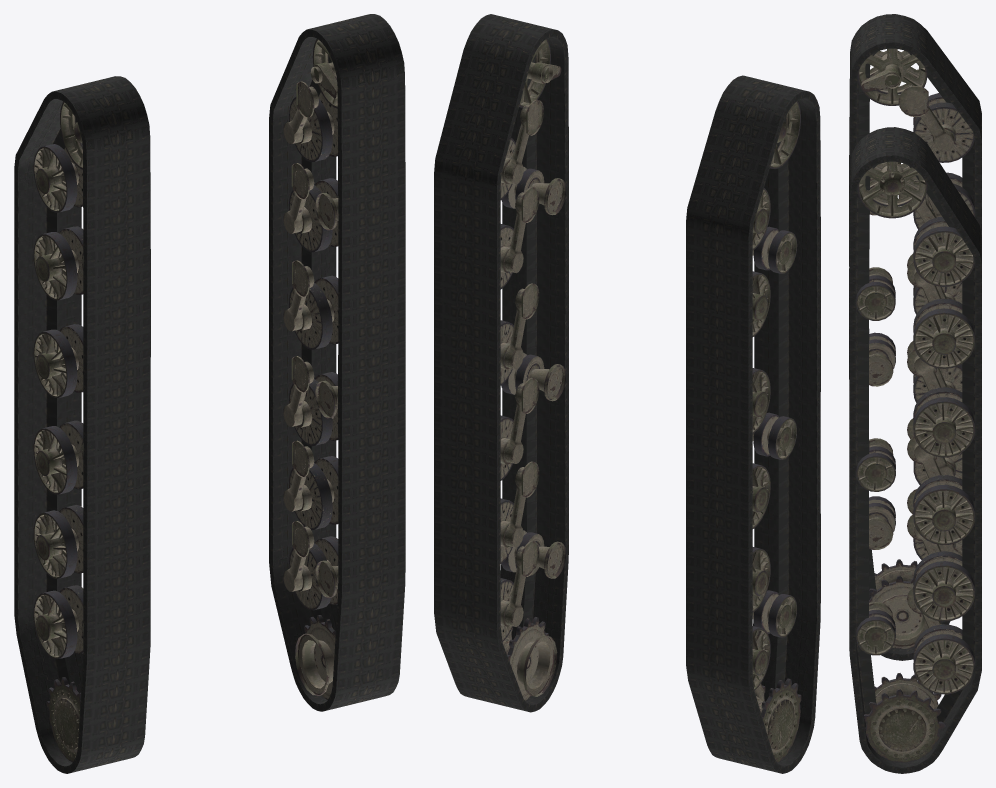
Rendered from Chassis.glb.
3 views of the same model, side by side, from view 1: azimuth 30°, elevation 25°; view 2: azimuth 150°, elevation 25°; view 3: azimuth 270°, elevation 25° (orthographic). The views are drawn at different scales.
Parts seen in each view (by area): view 1: set_0_group_0, set_1_group_0, set_3_group_0, set_2_group_0; view 2: set_0_group_0, set_1_group_0, set_3_group_0, set_2_group_0; view 3: set_3_group_0, set_1_group_0, set_2_group_0, set_0_group_0.
Boxes of the visible parts, bbox=[...] form: set_0_group_0: bbox=[14, 76, 150, 773]; set_1_group_0: bbox=[269, 14, 405, 711]; set_3_group_0: bbox=[283, 39, 338, 699]; set_2_group_0: bbox=[33, 101, 83, 762]; set_0_group_0: bbox=[686, 75, 820, 773]; set_1_group_0: bbox=[434, 14, 568, 712]; set_3_group_0: bbox=[500, 39, 566, 700]; set_2_group_0: bbox=[752, 101, 801, 762]; set_3_group_0: bbox=[856, 161, 974, 762]; set_1_group_0: bbox=[849, 127, 981, 773]; set_2_group_0: bbox=[857, 48, 974, 648]; set_0_group_0: bbox=[849, 14, 981, 660].
Size of the model in its own units: 3.26 by 6.65 by 1.29.
Materials: 4 (4 with a texture image).
